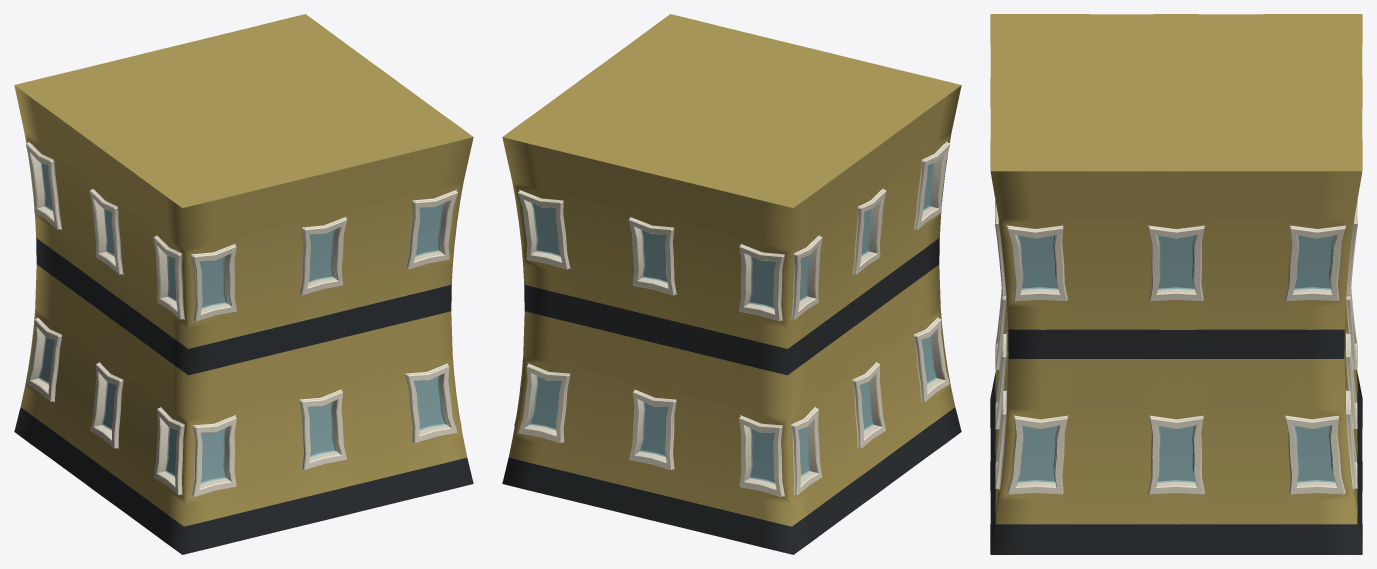
File: Tentacle_Building_002.FBX
The picture shows the model from 3 angles, left to right: view 1: azimuth 30°, elevation 25°; view 2: azimuth 150°, elevation 25°; view 3: azimuth 270°, elevation 25°; orthographic projection. The views are drawn at different scales.
Parts seen in each view (by area): view 1: Tentacule_Building_008; view 2: Tentacule_Building_008; view 3: Tentacule_Building_008.
Boxes of the visible parts, x1,y1,x2,y2 form: Tentacule_Building_008: (14, 14, 473, 554); Tentacule_Building_008: (502, 14, 961, 554); Tentacule_Building_008: (990, 14, 1362, 554).
Size of the model in its own units: 167 by 189 by 167.
